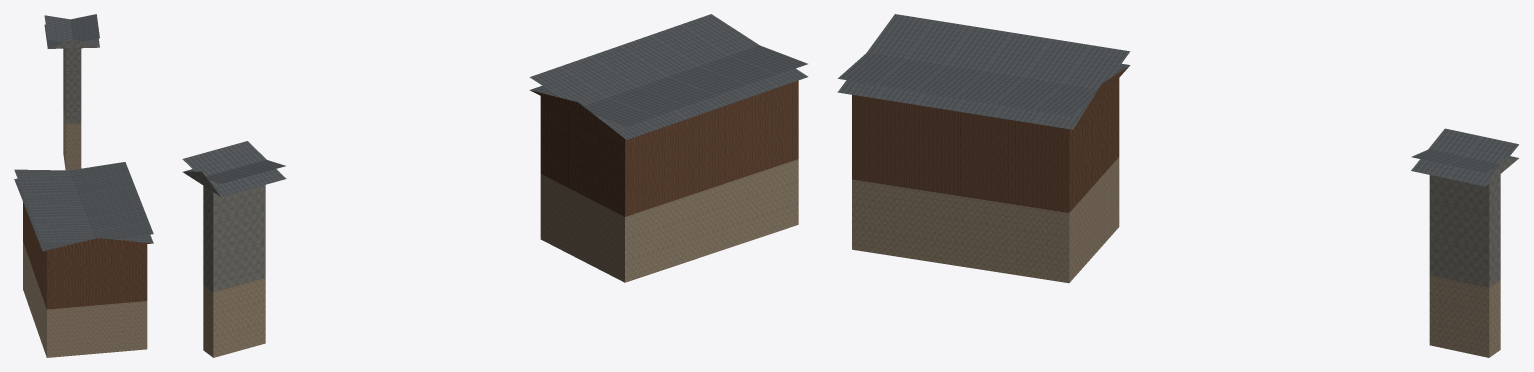
File: bld_c19_43_398.gltf
3 views of the same model, side by side, from view 1: azimuth 30°, elevation 25°; view 2: azimuth 150°, elevation 25°; view 3: azimuth 270°, elevation 25° (orthographic). The views are drawn at different scales.
Visible parts, largest first — view 1: bld_c19_43_398; view 2: bld_c19_43_398; view 3: bld_c19_43_398.
Part boxes in pixels (<box>): bld_c19_43_398: <box>14,14,153,357</box>; bld_c19_43_398: <box>182,14,808,357</box>; bld_c19_43_398: <box>837,14,1518,357</box>.
Size of the model in its own units: 28.41 by 14.3 by 44.9.
Materials: 6 (6 with a texture image).
